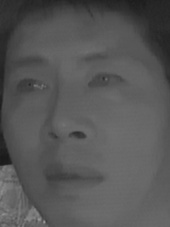eye: (85, 69, 126, 94), (13, 76, 50, 99)
mouth: (40, 158, 107, 199)
